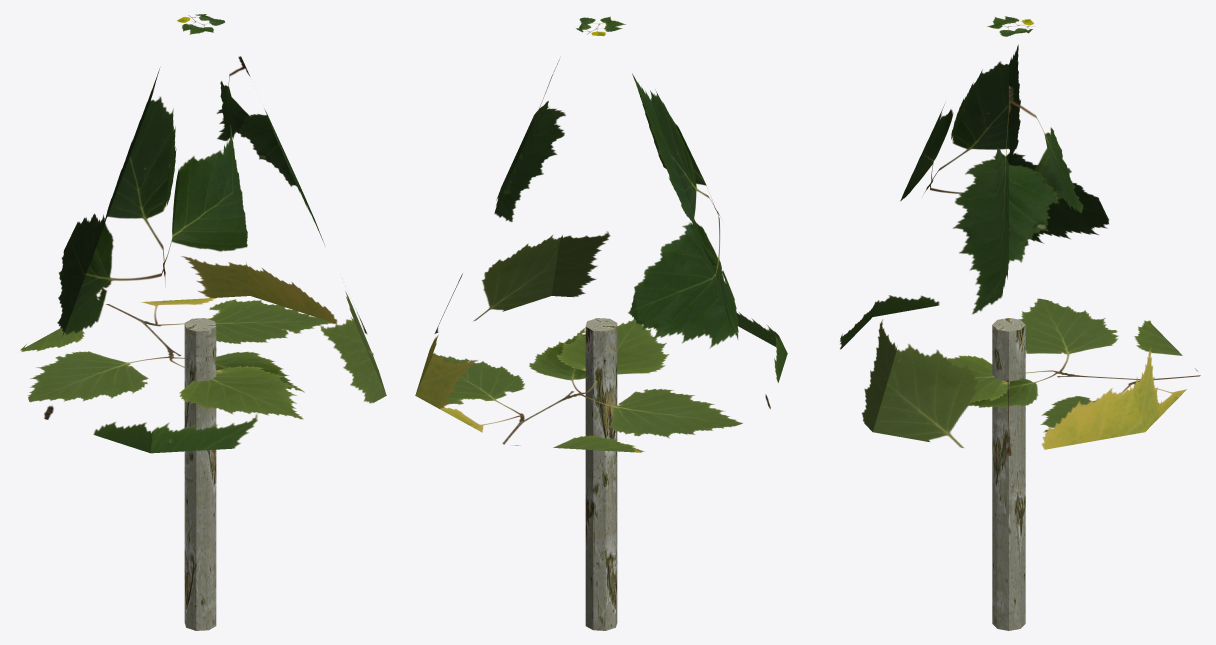
Rendered from birch_0_lod2.glb.
3 renders of one model, left to right at view 1: azimuth 30°, elevation 25°; view 2: azimuth 150°, elevation 25°; view 3: azimuth 270°, elevation 25°, orthographic.
Parts seen in each view (by area): view 1: Canopy_LOD2, Trunk_LOD2; view 2: Canopy_LOD2, Trunk_LOD2; view 3: Canopy_LOD2, Trunk_LOD2.
Part boxes in pixels (x1,y1,x2,y2): Canopy_LOD2: [20, 14, 386, 453]; Trunk_LOD2: [184, 318, 216, 630]; Canopy_LOD2: [415, 16, 787, 452]; Trunk_LOD2: [585, 318, 617, 630]; Canopy_LOD2: [840, 16, 1200, 455]; Trunk_LOD2: [992, 318, 1025, 630].
Size of the model in its own units: 7 by 12 by 7.
2 materials, 2 textured.
